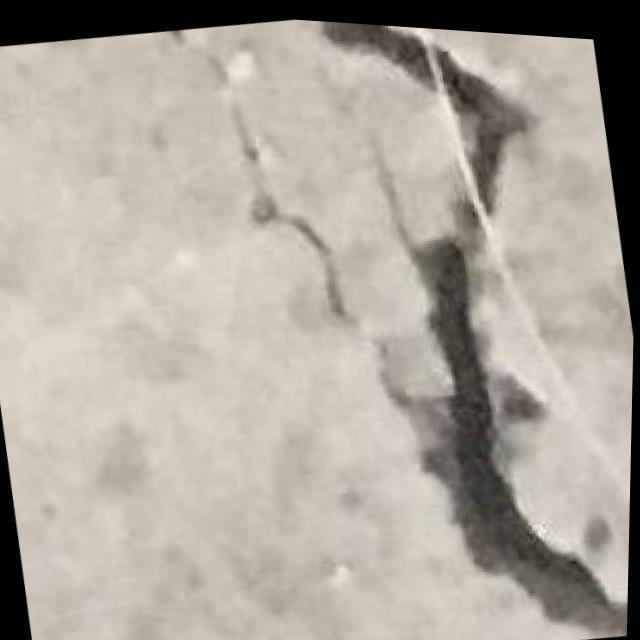Crack: (122, 7, 640, 640)
